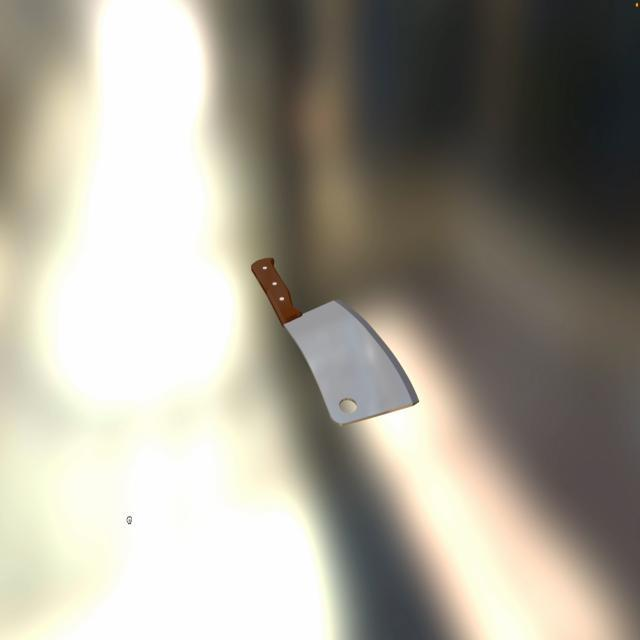cleaver: (249, 253, 422, 424)
